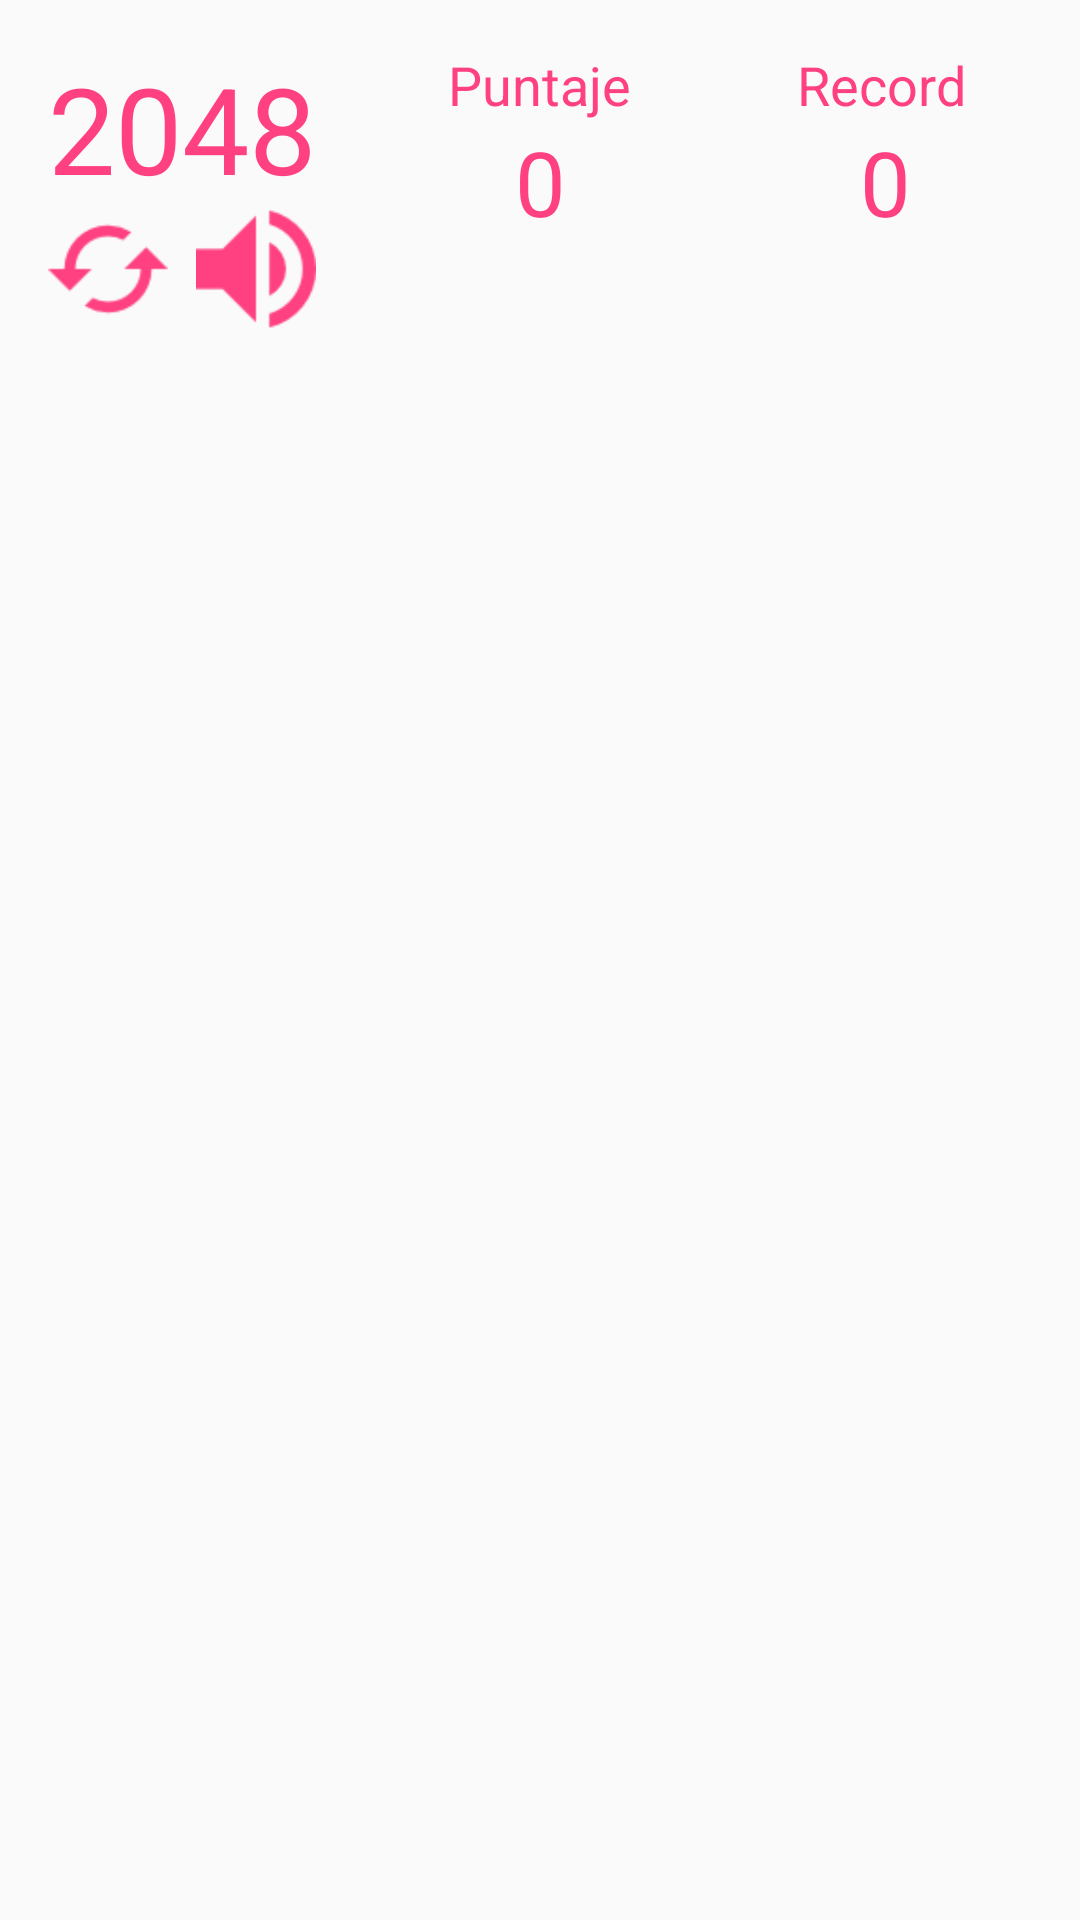

Named icons in this screenshot (1080 × 1920) and their bounding boxes, (x1, y1, x2, y2):
restart: (48, 224, 168, 314)
volume: (196, 210, 316, 328)
